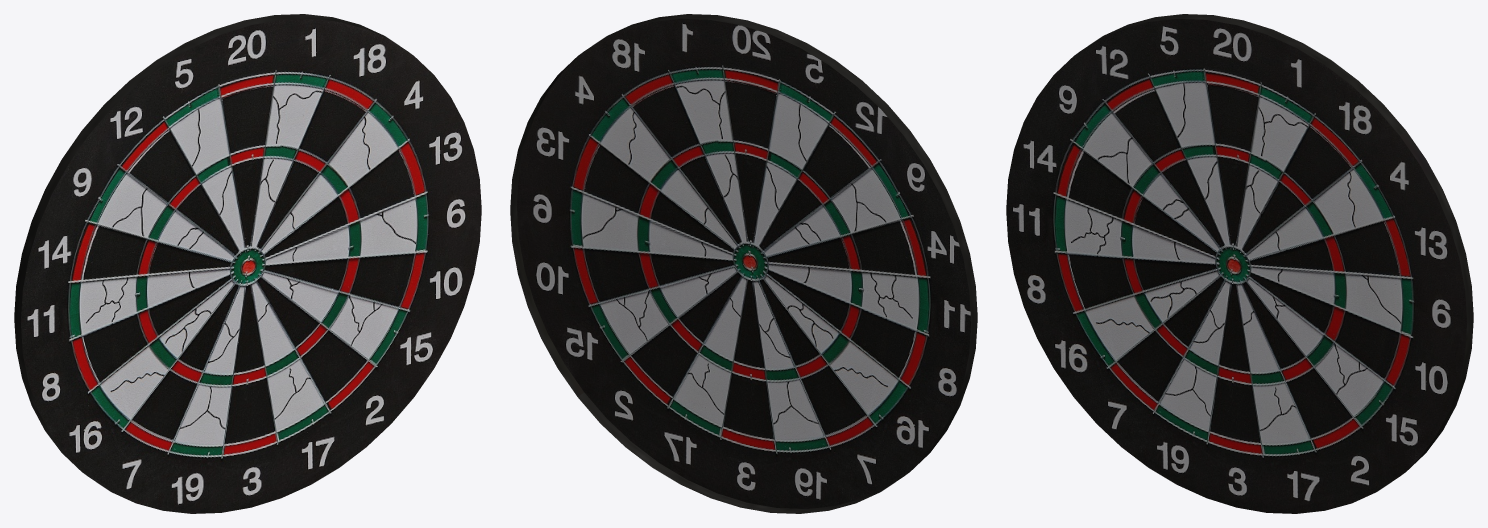
The model's file is darts_tablo_lo.FBX.
3 views of the same model, side by side, from view 1: azimuth 30°, elevation 25°; view 2: azimuth 150°, elevation 25°; view 3: azimuth 330°, elevation 25° (orthographic).
Visible parts, largest first — view 1: darts_tablo_lo; view 2: darts_tablo_lo; view 3: darts_tablo_lo.
Boxes of the visible parts, x1,y1,x2,y2 form: darts_tablo_lo: (14, 14, 481, 513); darts_tablo_lo: (510, 14, 977, 513); darts_tablo_lo: (1006, 14, 1473, 513).
Size of the model in its own units: 400 by 400 by 10.
1 material, 1 textured.
